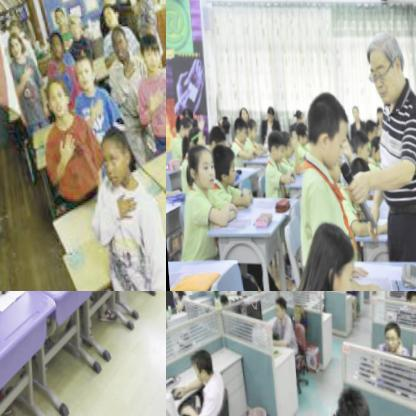head: (300, 220, 355, 291), (302, 91, 347, 167), (363, 30, 408, 104), (92, 124, 133, 190), (181, 144, 215, 190), (36, 72, 65, 116), (207, 145, 234, 186), (328, 387, 366, 416), (183, 348, 212, 385), (134, 28, 160, 69), (375, 321, 403, 355), (260, 127, 283, 167), (69, 51, 91, 89), (106, 22, 125, 58), (347, 130, 366, 162), (202, 127, 223, 155), (273, 128, 291, 160), (227, 115, 245, 145), (42, 28, 59, 58), (183, 125, 203, 149), (3, 28, 20, 56), (358, 115, 375, 141), (97, 0, 116, 22), (173, 113, 189, 139), (266, 293, 282, 319), (365, 134, 379, 163), (63, 14, 79, 37), (289, 121, 304, 144), (397, 291, 416, 309), (242, 118, 255, 141), (5, 16, 19, 37), (213, 114, 227, 135), (235, 103, 249, 123), (49, 3, 61, 25), (261, 105, 273, 126), (347, 102, 358, 124), (176, 106, 190, 123), (290, 106, 303, 123), (371, 103, 381, 123), (213, 291, 224, 305), (168, 291, 182, 297)
